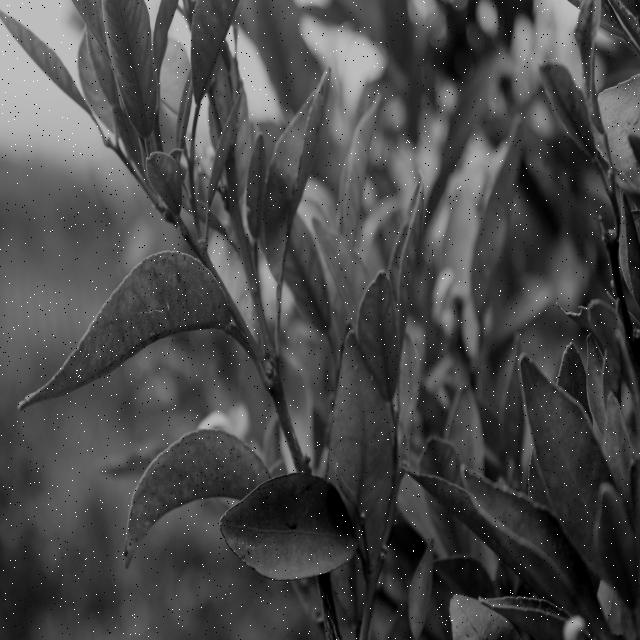blackspot: (69, 250, 231, 391), (115, 439, 238, 560)
